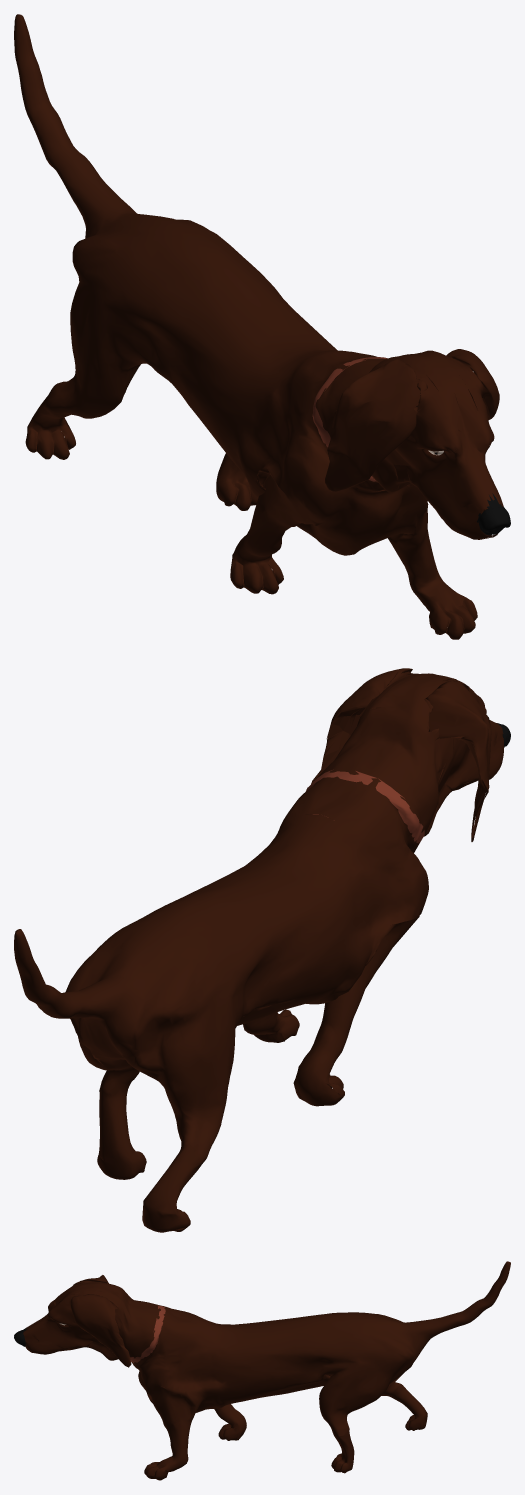
File: dog.FBX
The picture shows the model from 3 angles, top to bottom: view 1: azimuth 30°, elevation 25°; view 2: azimuth 150°, elevation 25°; view 3: azimuth 270°, elevation 25°; orthographic projection. The views are drawn at different scales.
Visible parts, largest first — view 1: Group_009; view 2: Group_009; view 3: Group_009.
Boxes of the visible parts, box(x1,y1,x2,y2) form: Group_009: box(14, 14, 510, 639); Group_009: box(14, 668, 510, 1232); Group_009: box(14, 1261, 510, 1480).
Size of the model in its own units: 17.65 by 33.13 by 76.62.
